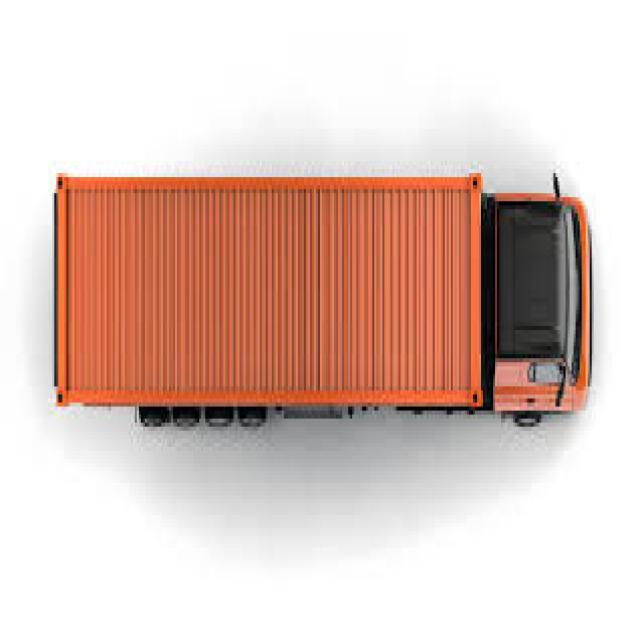truck: (52, 169, 595, 425)
